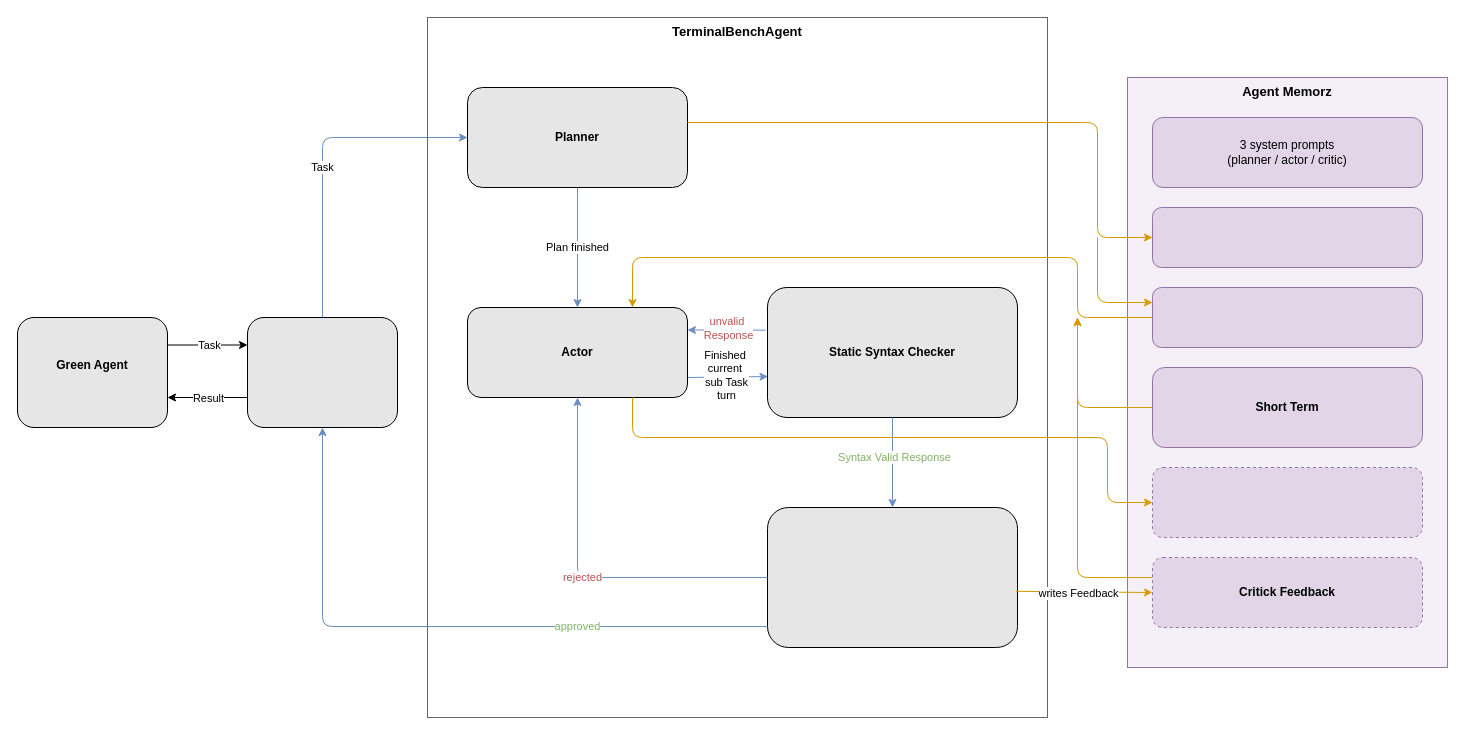
The diagram is 1465 pixels wide and 735 high, and some of its shapes have lost their labels. The centre of each missing label's shape, as x and y in pixels:
"A2A Server / Executor" belongs at point 322,372.
"Current Task" belongs at point 1287,317.
"Plan" belongs at point 1287,237.
"Request Candidate" belongs at point 1287,502.
"Semantic Checker Agent" belongs at point 892,577.
